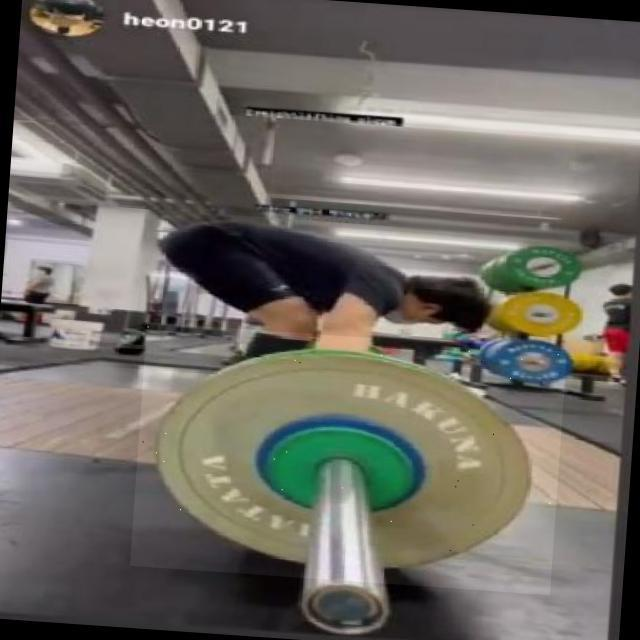barbell: (131, 323, 568, 596)
